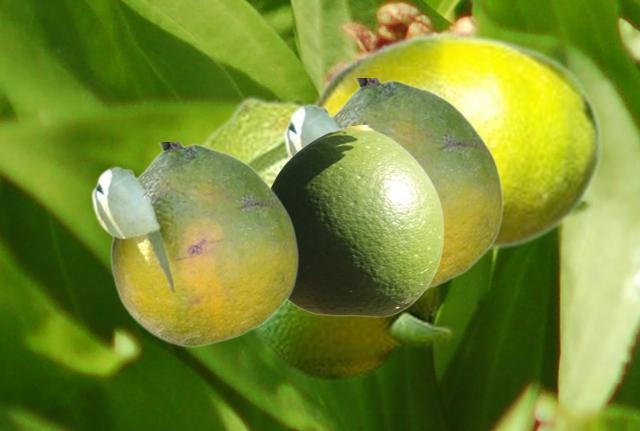dalandan: (308, 30, 601, 255), (282, 78, 503, 291), (90, 142, 298, 346), (271, 125, 443, 316), (251, 284, 455, 381), (199, 95, 310, 184)
